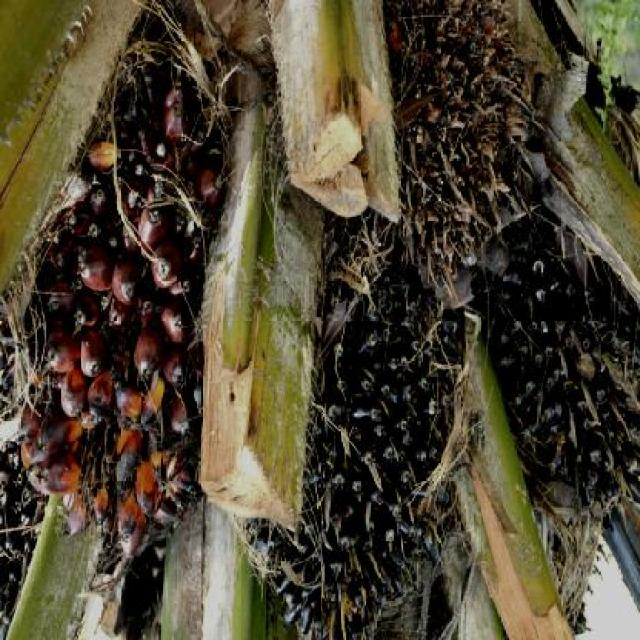palm-oil: (0, 14, 243, 544), (278, 230, 462, 598), (354, 0, 568, 235), (500, 189, 640, 502)
